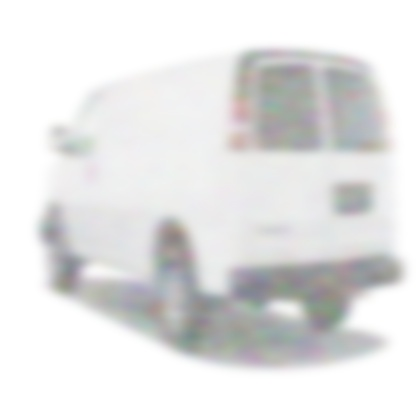Vehicle: (43, 53, 403, 358)
